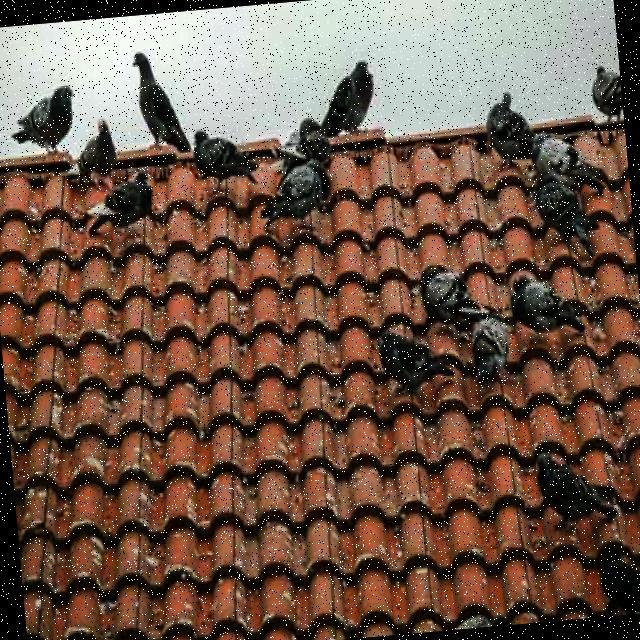bird: (130, 47, 192, 156), (256, 155, 334, 229), (5, 83, 78, 157), (314, 59, 378, 139), (60, 116, 120, 193), (190, 124, 260, 187), (295, 116, 333, 170)
